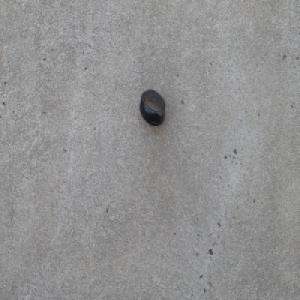FuelCap: (139, 88, 165, 126)
